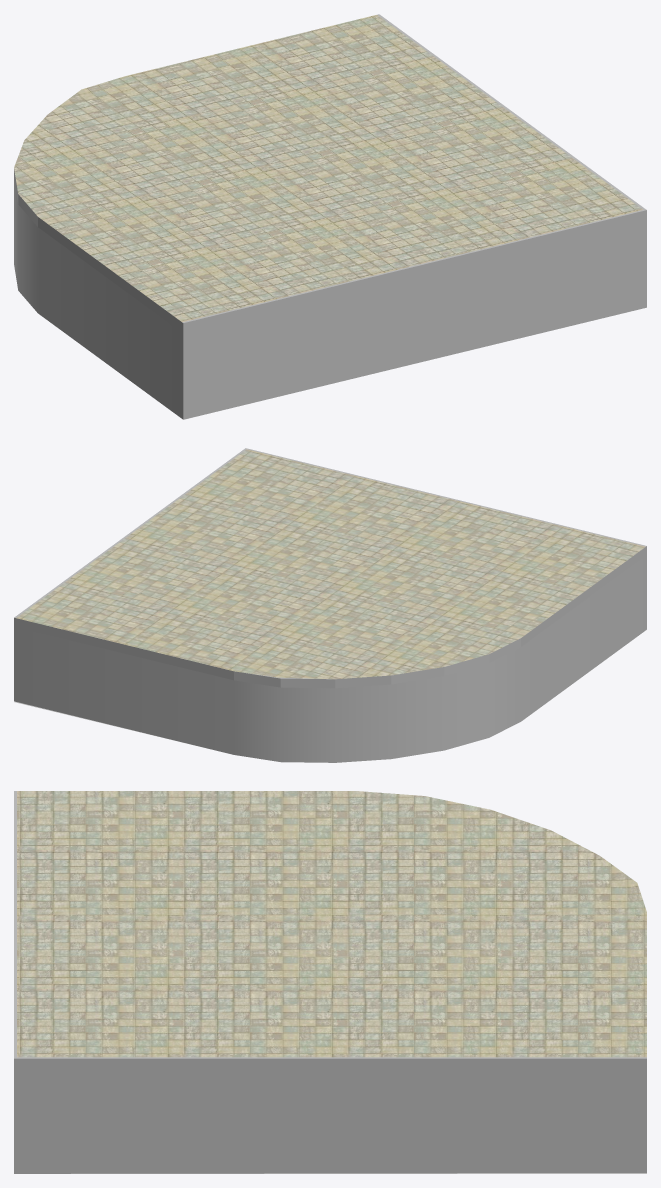
File: road_01w_cv_in_b.fbx
3 renders of one model, top to bottom at view 1: azimuth 30°, elevation 25°; view 2: azimuth 150°, elevation 25°; view 3: azimuth 270°, elevation 25°, orthographic. The views are drawn at different scales.
Parts seen in each view (by area): view 1: road_01w_cv_in_b; view 2: road_01w_cv_in_b; view 3: road_01w_cv_in_b.
Boxes of the visible parts, <box> form: road_01w_cv_in_b: <box>14,14,646,419</box>; road_01w_cv_in_b: <box>14,448,646,762</box>; road_01w_cv_in_b: <box>14,791,646,1173</box>.
Bounding box in the file's own units: 11.04 × 2.25 × 11.04.
